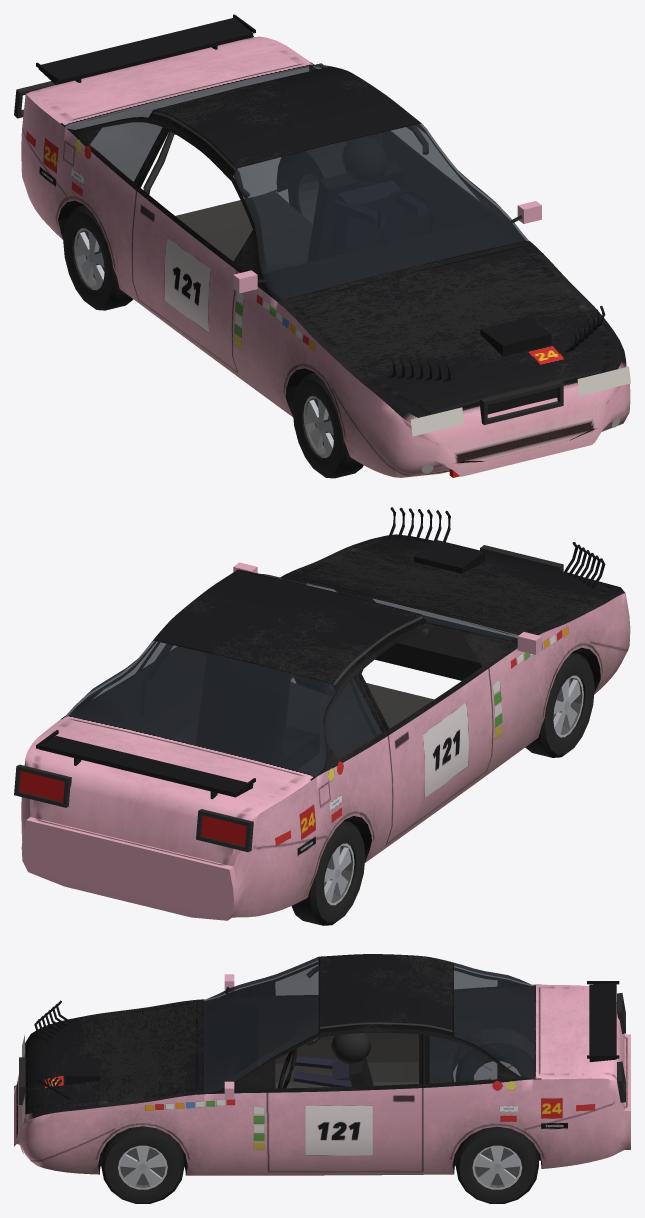
3 views of the same model, one above another, from view 1: azimuth 30°, elevation 25°; view 2: azimuth 150°, elevation 25°; view 3: azimuth 270°, elevation 25° (orthographic). The views are drawn at different scales.
Visible parts, largest first — view 1: body, wheel_fr, wheel_rr, wheel_rl; view 2: body, wheel_rr, wheel_fr; view 3: body, wheel_fl, wheel_rl, wheel_rr.
Boxes of the visible parts, box(x1,y1,x2,y2) form: body: box(14, 14, 630, 477); wheel_fr: box(292, 372, 363, 478); wheel_rr: box(63, 205, 133, 310); wheel_rl: box(288, 151, 323, 223); body: box(14, 507, 630, 920); wheel_rr: box(291, 820, 365, 925); wheel_fr: box(525, 652, 594, 757); body: box(14, 954, 630, 1175); wheel_fl: box(101, 1126, 184, 1203); wheel_rl: box(455, 1126, 538, 1203); wheel_rr: box(456, 1043, 534, 1081).
Size of the model in its own units: 2 by 1.4 by 4.56.
2 materials, 1 textured.
